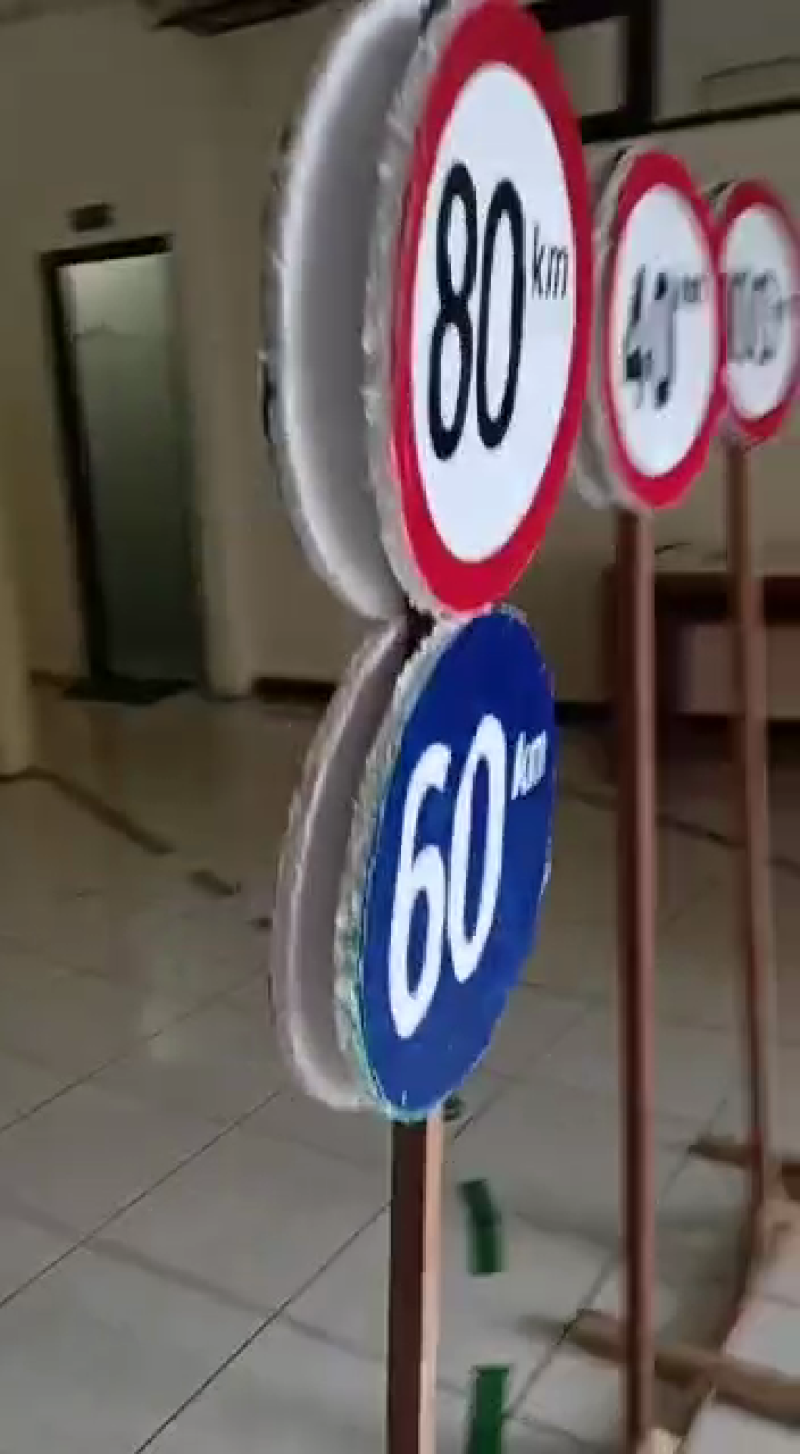batas maksimal 80kmperjam minimal 60kmperjam: (330, 1, 597, 1125)
